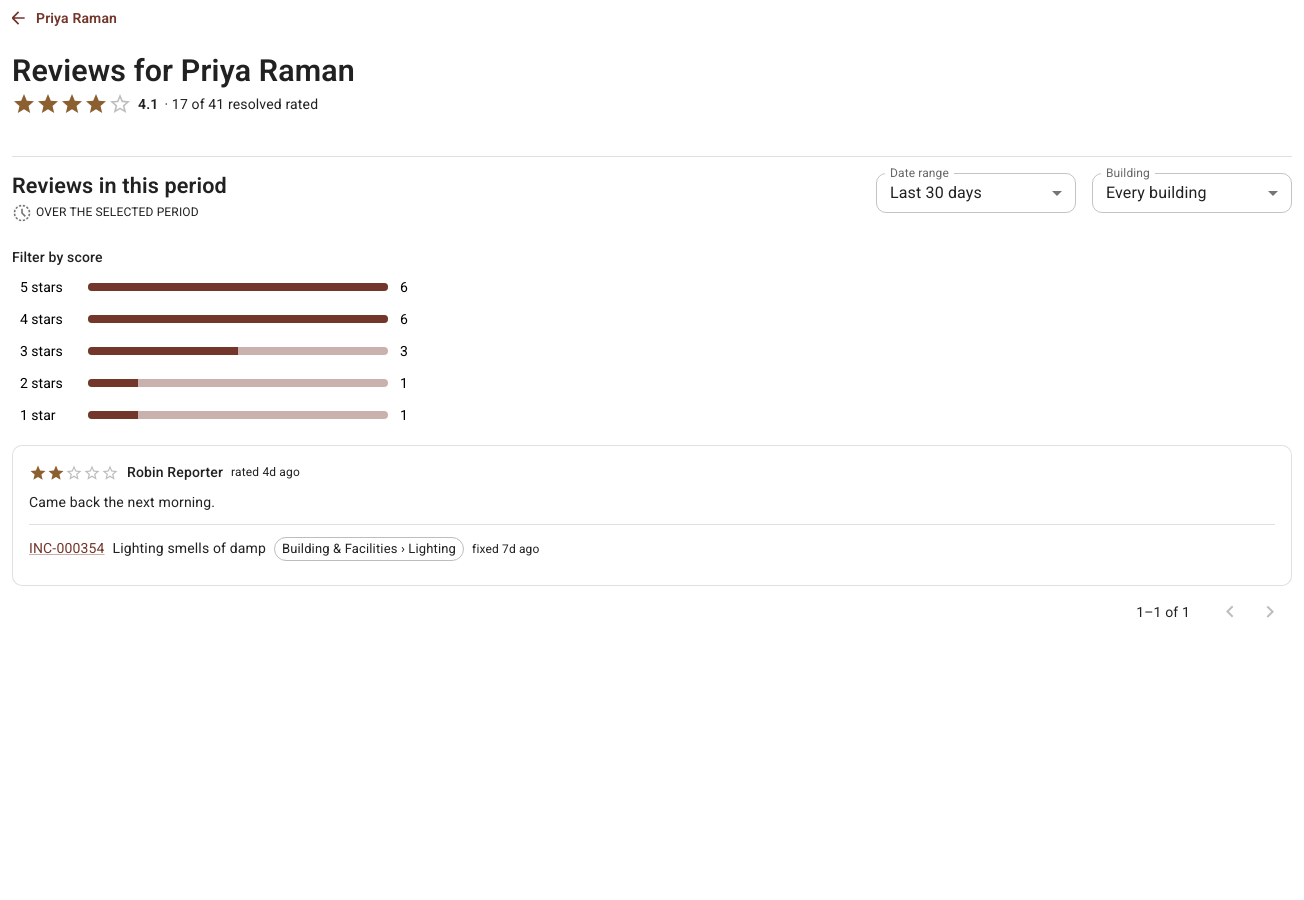
it: the score filter › clears back to every score
Expected: the heading "Reviews for Priya Raman" is shown, [12,52,355,88]
Expected: the text "Came back the next morning." is shown, [29,494,215,510]
What coordinates should you click on to do the following:
click the button "2 stars 1"
I would click on:
 (222, 383)
Its box is [12,369,432,397].
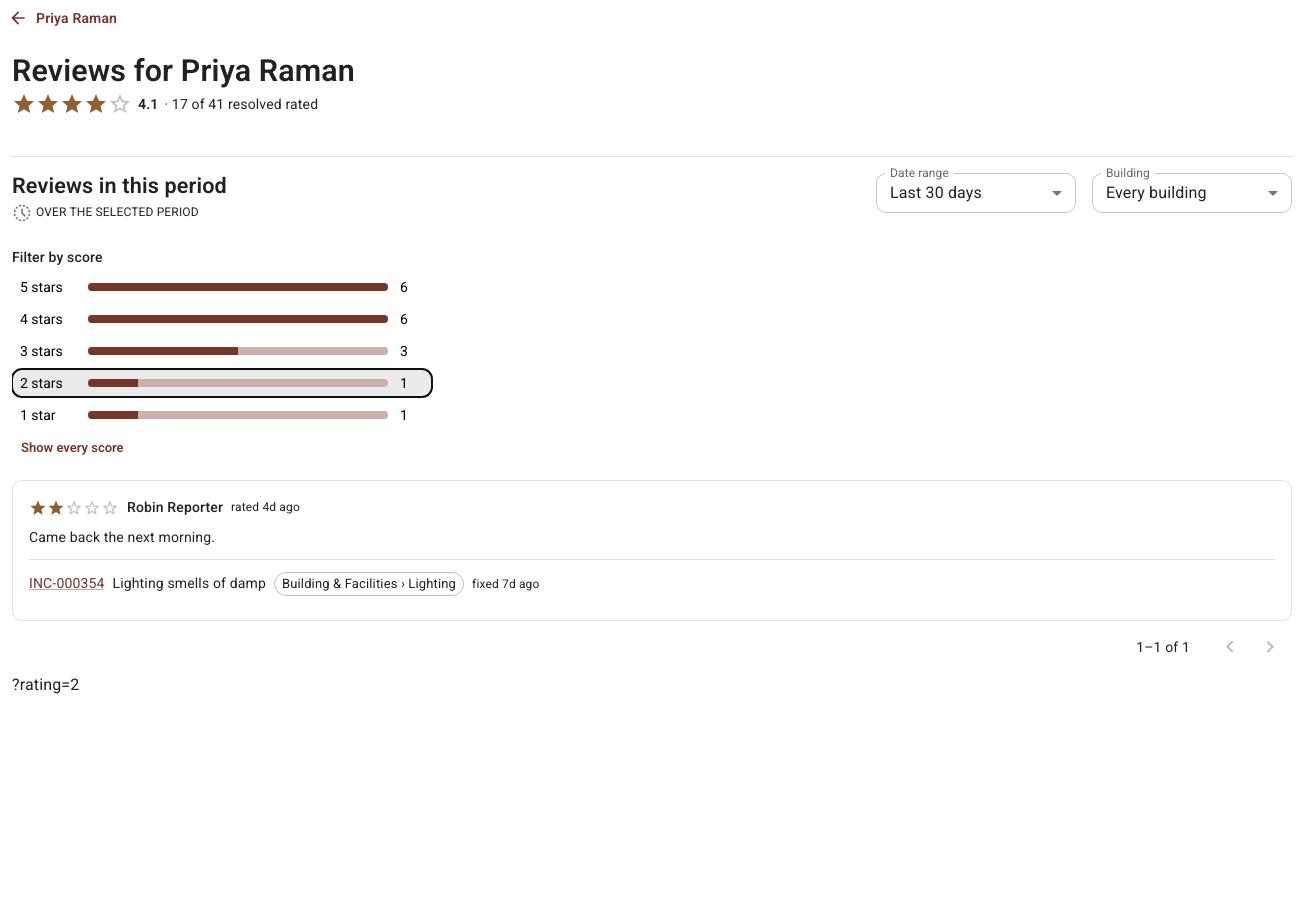
Expected: the button "Show every score" is shown
What coordinates should you click on to do the following:
click the button "Show every score"
I would click on:
 (72, 448)
Its box is [16,433,129,464].
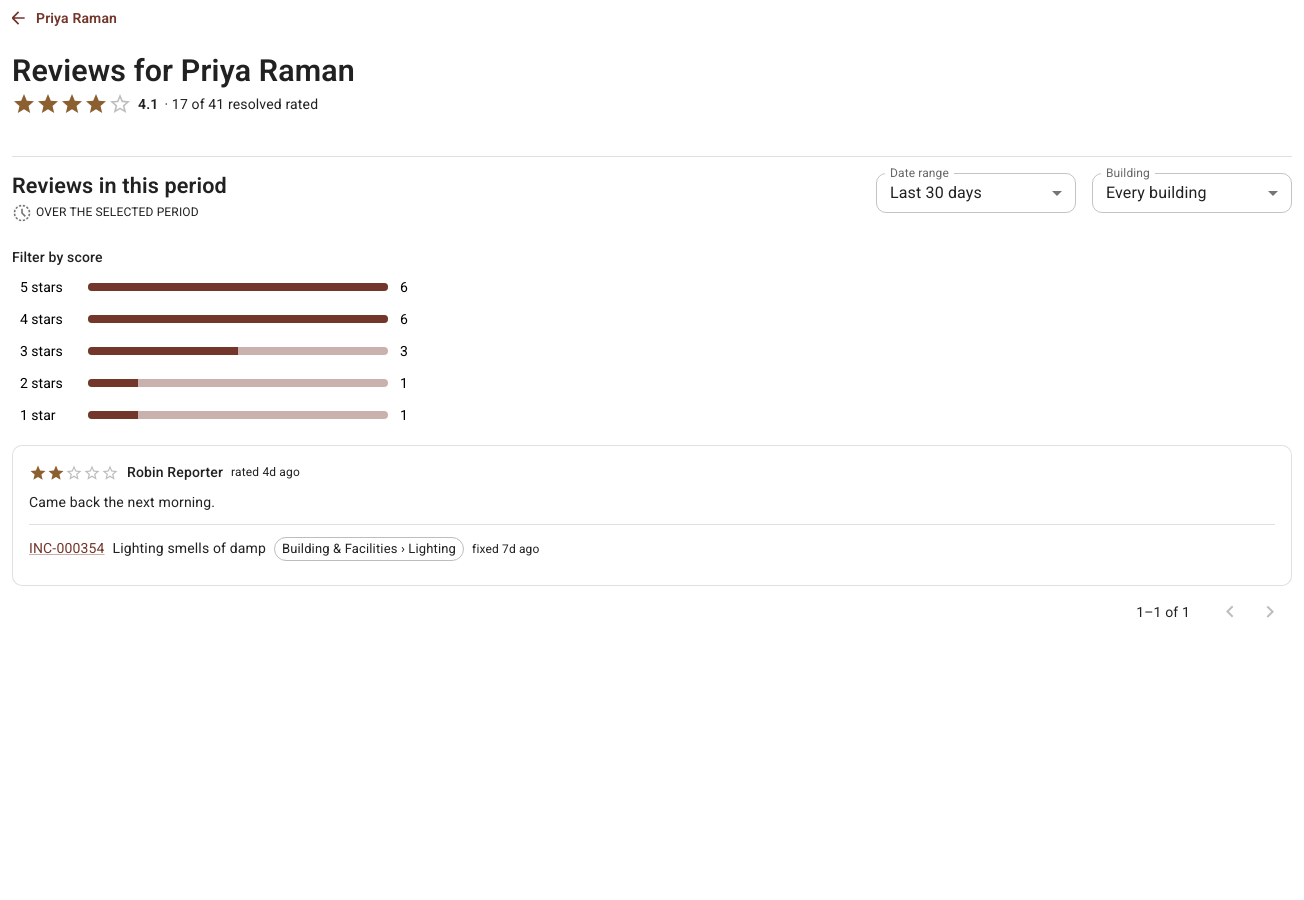
Expected: the button "Show every score" is gone
